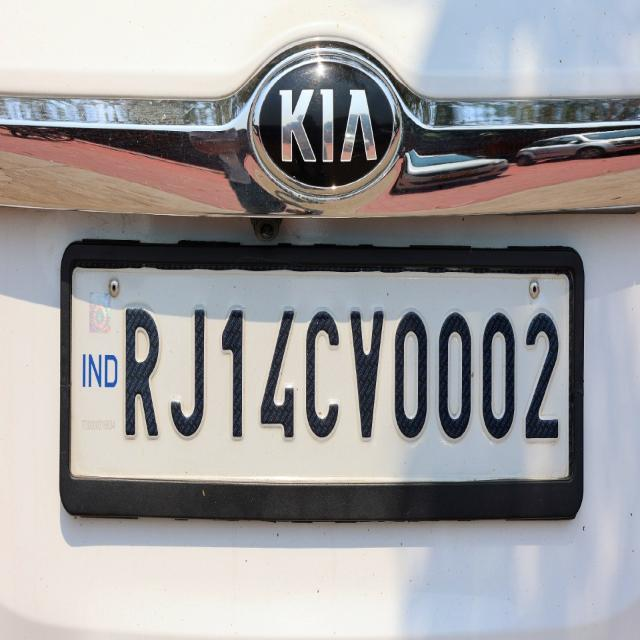0: (387, 307, 433, 446), (478, 314, 518, 441), (436, 310, 474, 439)
1: (217, 299, 250, 445)
2: (522, 310, 569, 444)
4: (256, 302, 307, 442)
c: (299, 304, 346, 441)
j: (165, 306, 214, 441)
r: (116, 307, 168, 444)
v: (343, 301, 387, 447)
